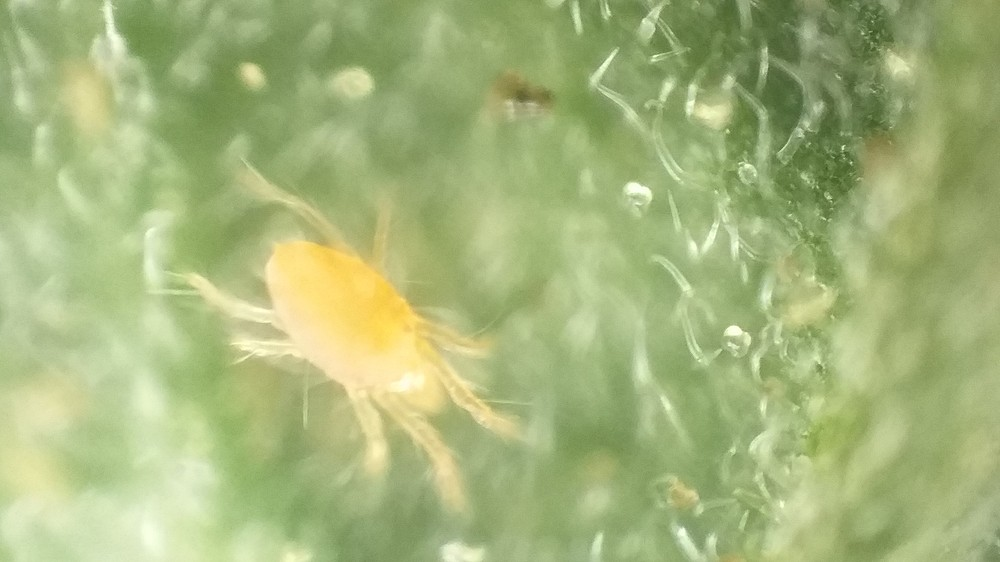Aracnido Rojo: (157, 152, 568, 514)
